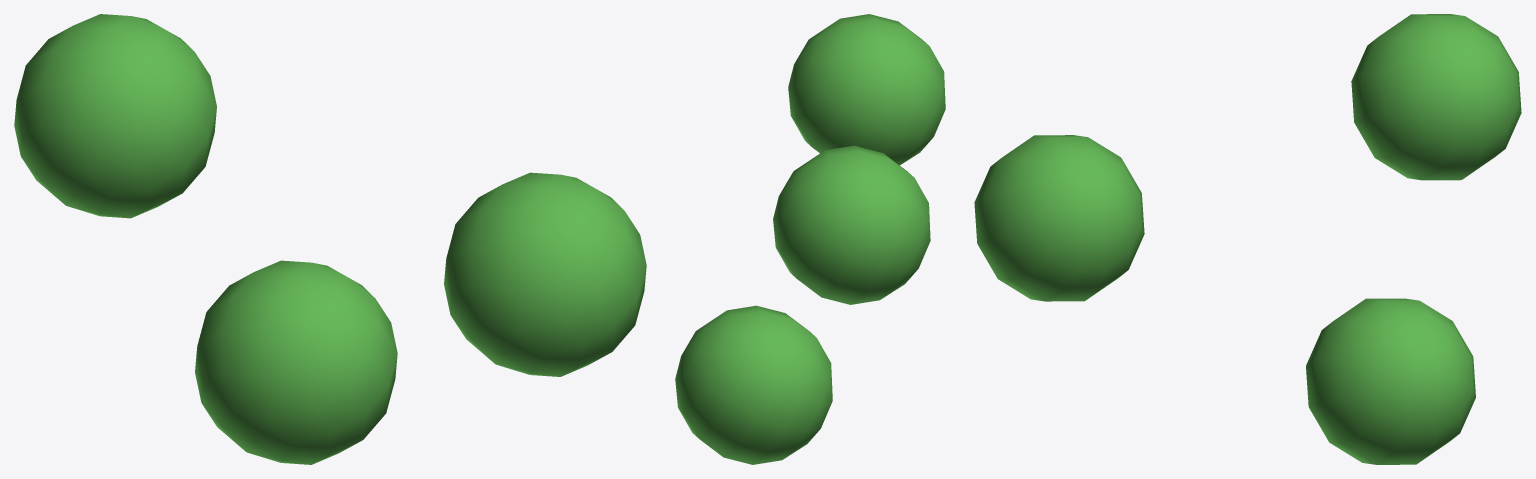
The model's file is linfatico-pre-auricular-nodes-r.glb.
The picture shows the model from 3 angles, left to right: view 1: azimuth 30°, elevation 25°; view 2: azimuth 150°, elevation 25°; view 3: azimuth 270°, elevation 25°; orthographic projection. The views are drawn at different scales.
Visible parts, largest first — view 1: Pre-auricular nodes.r; view 2: Pre-auricular nodes.r; view 3: Pre-auricular nodes.r.
Part boxes in pixels (left/top/right/bottom): Pre-auricular nodes.r: left=14, top=14, right=646, bottom=464; Pre-auricular nodes.r: left=675, top=14, right=945, bottom=464; Pre-auricular nodes.r: left=974, top=14, right=1521, bottom=464.
Size of the model in its own units: 0.00557 by 0.00625 by 0.0082.
